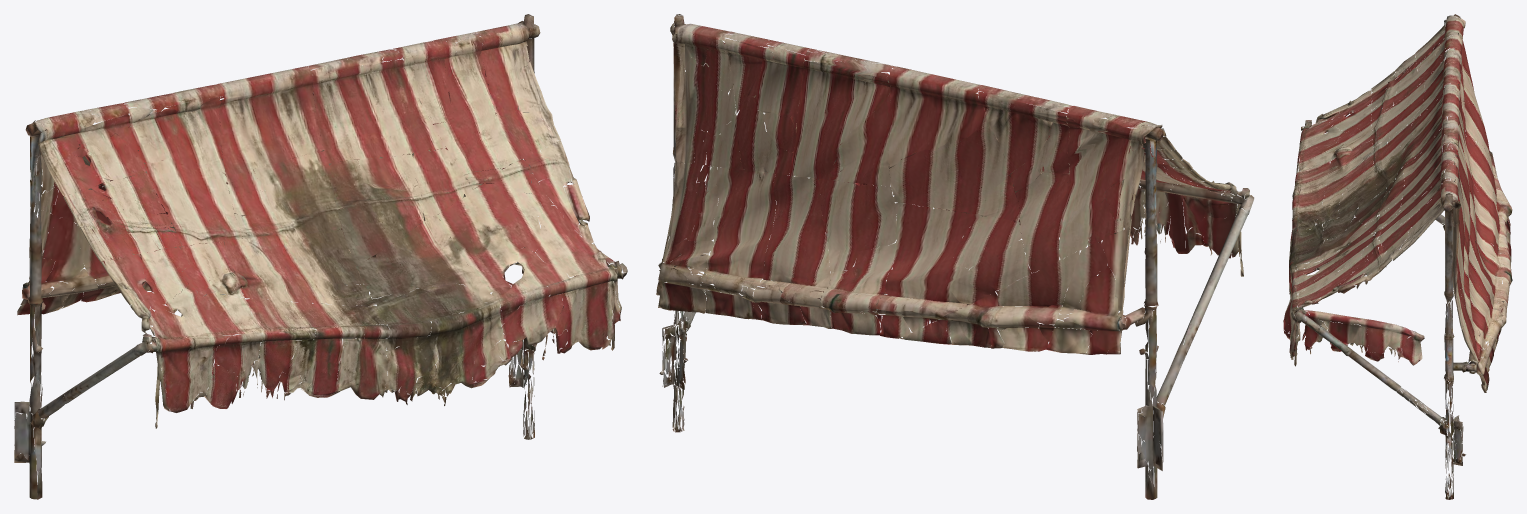
The model's file is m_awning.glb.
The picture shows the model from 3 angles, left to right: view 1: azimuth 30°, elevation 25°; view 2: azimuth 150°, elevation 25°; view 3: azimuth 270°, elevation 25°; orthographic projection. The views are drawn at different scales.
Visible parts, largest first — view 1: tripo_node_5ddd01d5-b0b7-48c4-81bb-9924e71351ff; view 2: tripo_node_5ddd01d5-b0b7-48c4-81bb-9924e71351ff; view 3: tripo_node_5ddd01d5-b0b7-48c4-81bb-9924e71351ff.
Boxes of the visible parts, bbox=[...] form: tripo_node_5ddd01d5-b0b7-48c4-81bb-9924e71351ff: bbox=[14, 14, 627, 499]; tripo_node_5ddd01d5-b0b7-48c4-81bb-9924e71351ff: bbox=[656, 14, 1254, 499]; tripo_node_5ddd01d5-b0b7-48c4-81bb-9924e71351ff: bbox=[1283, 14, 1512, 499].
Size of the model in its own units: 2.48 by 1.99 by 1.33.
Materials: 1 (1 with a texture image).
